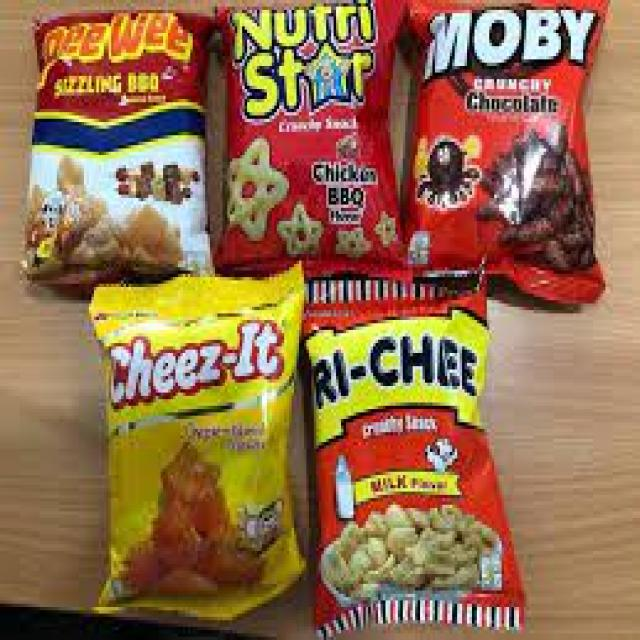junkfood wrapper: (306, 270, 523, 635), (89, 270, 305, 618), (409, 3, 607, 303), (215, 2, 404, 280), (25, 10, 214, 286)
